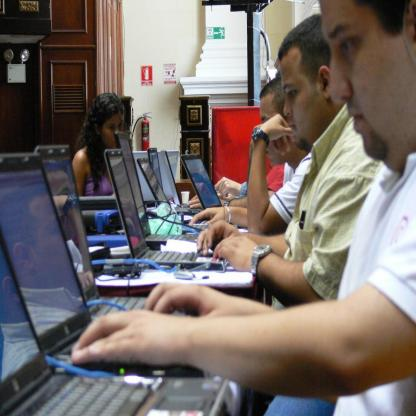board: (0, 132, 238, 416), (0, 151, 206, 376), (36, 144, 187, 318), (104, 149, 227, 270), (114, 132, 199, 244), (136, 158, 210, 231), (148, 149, 203, 213)
